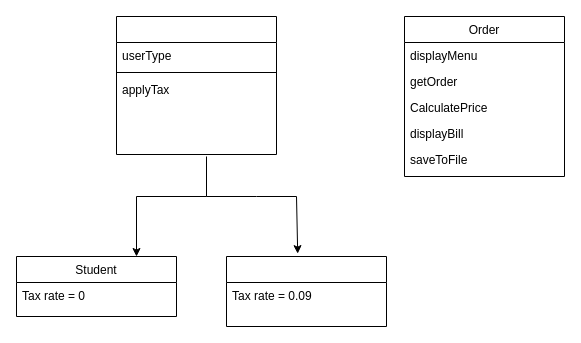
Image size: 581x343. Some labels were removed from this diagram. Here are the shapes that lost their labels. From the top down, the box of each, then its label:
(116, 16, 276, 154): Customer
(226, 256, 386, 326): Staff
